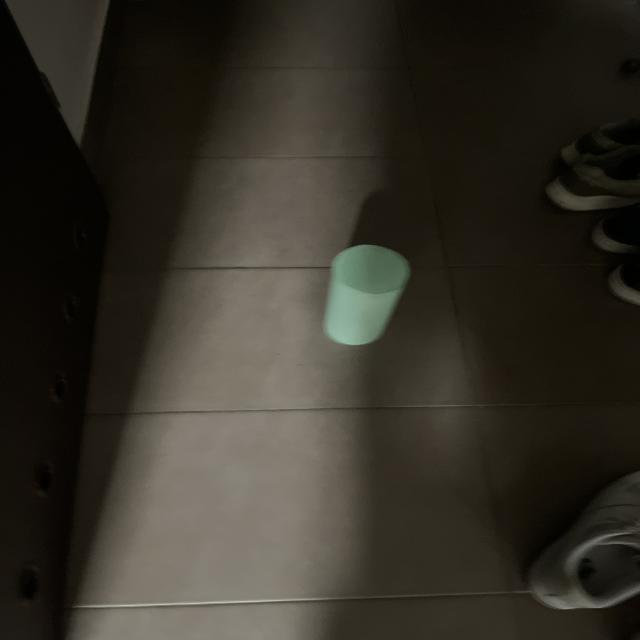meta: (323, 245, 410, 345)
